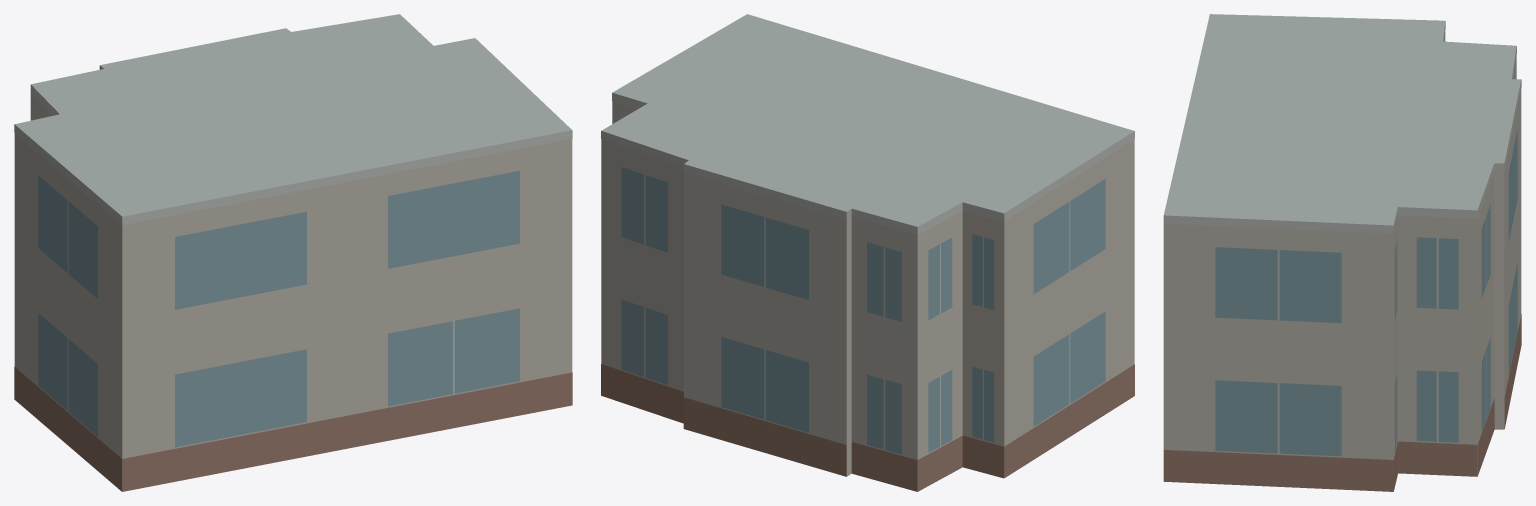
Rendered from survey-upis-32751255.glb.
3 views of the same model, side by side, from view 1: azimuth 30°, elevation 25°; view 2: azimuth 150°, elevation 25°; view 3: azimuth 270°, elevation 25° (orthographic). The views are drawn at different scales.
Visible parts, largest first — view 1: survey-upis-32751255.tmp; view 2: survey-upis-32751255.tmp; view 3: survey-upis-32751255.tmp.
Boxes of the visible parts, x1=… form: survey-upis-32751255.tmp: x1=14, y1=14, x2=572, y2=491; survey-upis-32751255.tmp: x1=601, y1=14, x2=1134, y2=491; survey-upis-32751255.tmp: x1=1163, y1=14, x2=1521, y2=491.
Size of the model in its own units: 13.47 by 7.9 by 9.63.
